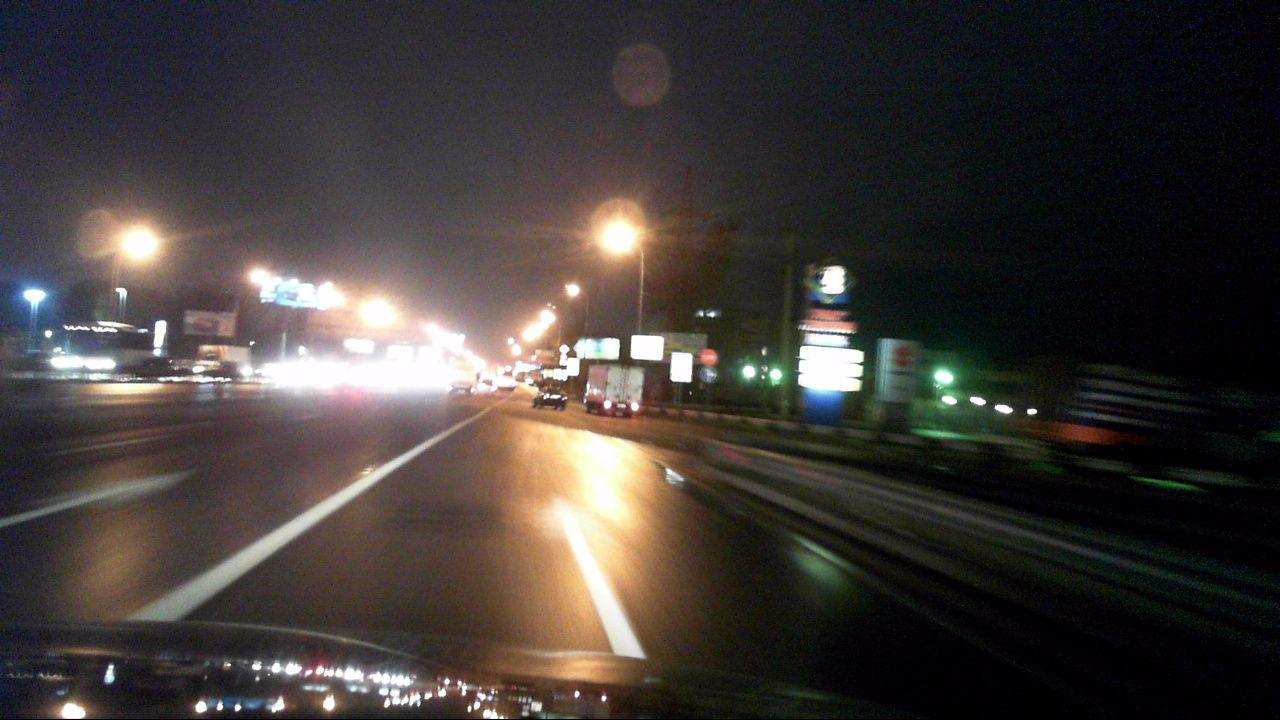2_5: (701, 348, 717, 365)
